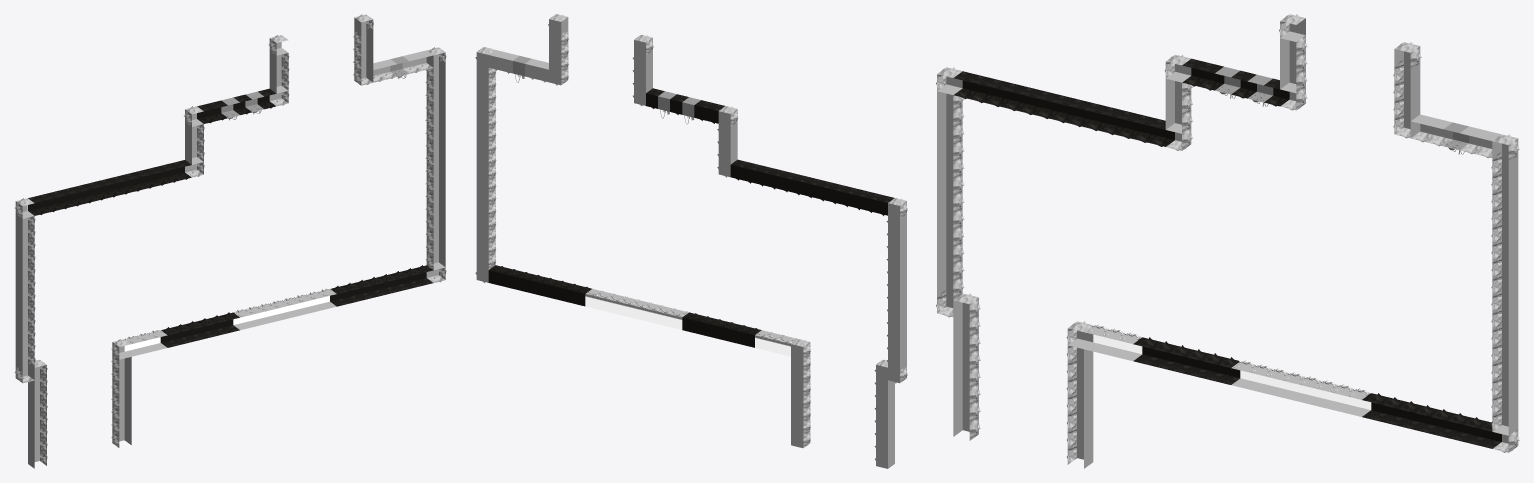
Rendered from Cubi_Room8.fbx.
3 renders of one model, left to right at view 1: azimuth 30°, elevation 25°; view 2: azimuth 150°, elevation 25°; view 3: azimuth 330°, elevation 25°, orthographic. The views are drawn at different scales.
Parts seen in each view (by area): view 1: Cubes_Room8; view 2: Cubes_Room8; view 3: Cubes_Room8.
Boxes of the visible parts, x1,y1,x2,y2 form: Cubes_Room8: [14, 14, 446, 468]; Cubes_Room8: [475, 14, 907, 468]; Cubes_Room8: [936, 14, 1519, 468].
Bounding box in the file's own units: 3545 × 2922 × 100.
